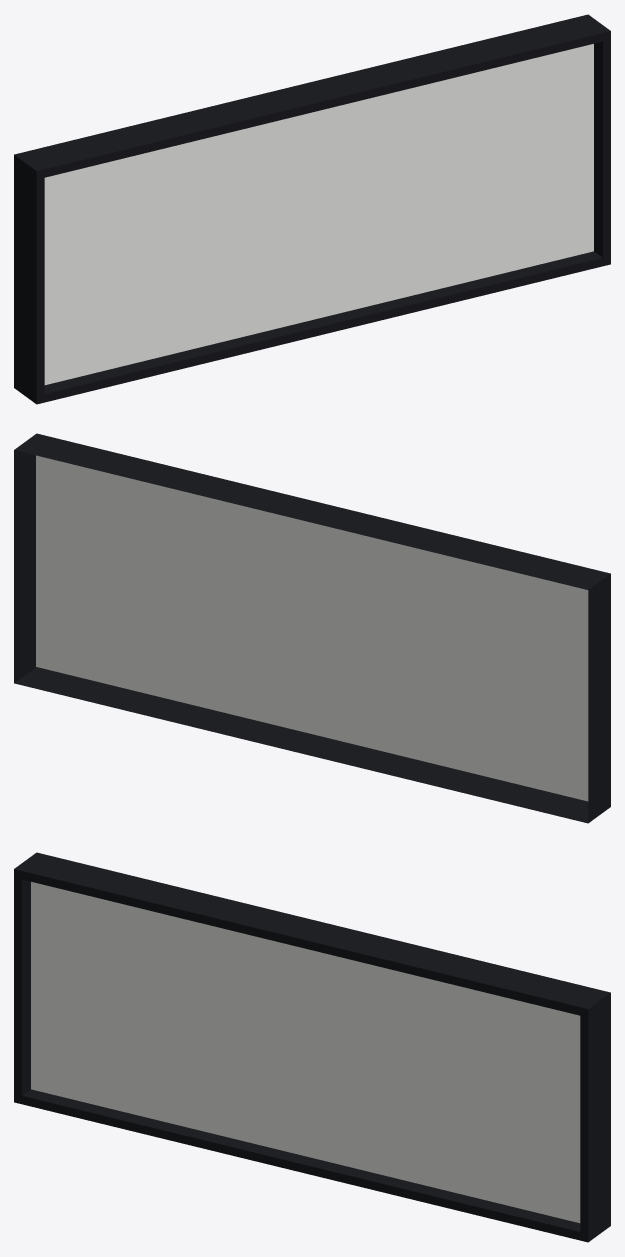
File: SM_lightsign_02.fbx
3 renders of one model, top to bottom at view 1: azimuth 30°, elevation 25°; view 2: azimuth 150°, elevation 25°; view 3: azimuth 330°, elevation 25°, orthographic.
Visible parts, largest first — view 1: lightsign_02; view 2: lightsign_02; view 3: lightsign_02.
Boxes of the visible parts, bbox=[...] form: lightsign_02: bbox=[14, 14, 610, 404]; lightsign_02: bbox=[14, 433, 610, 823]; lightsign_02: bbox=[14, 852, 610, 1242].
Size of the model in its own units: 99.26 by 38.54 by 6.79.
